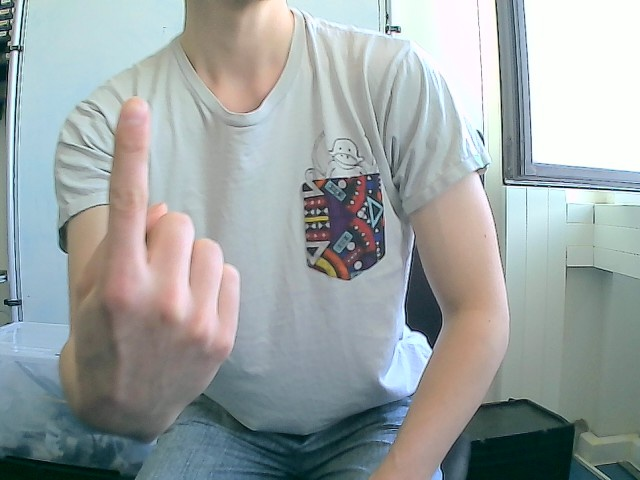up: (57, 96, 242, 443)
